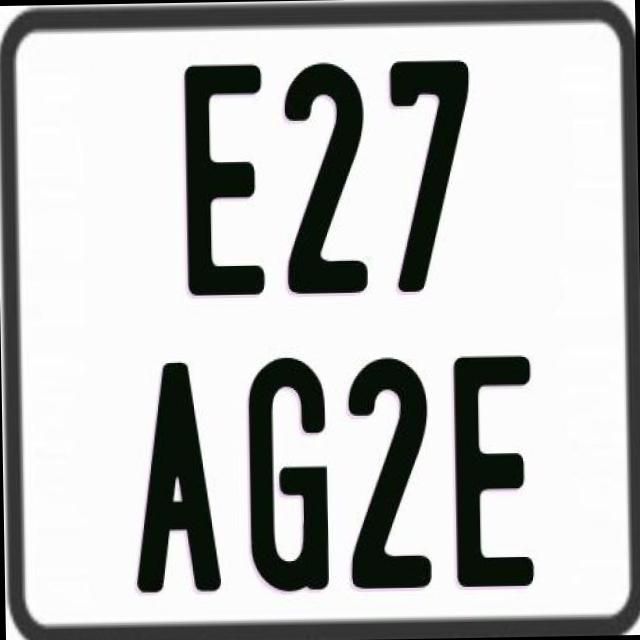2: (282, 62, 366, 303), (346, 357, 432, 590)
7: (388, 55, 477, 291)
A: (132, 358, 228, 594)
E: (180, 60, 266, 300), (448, 353, 530, 591)
G: (243, 356, 326, 594)
